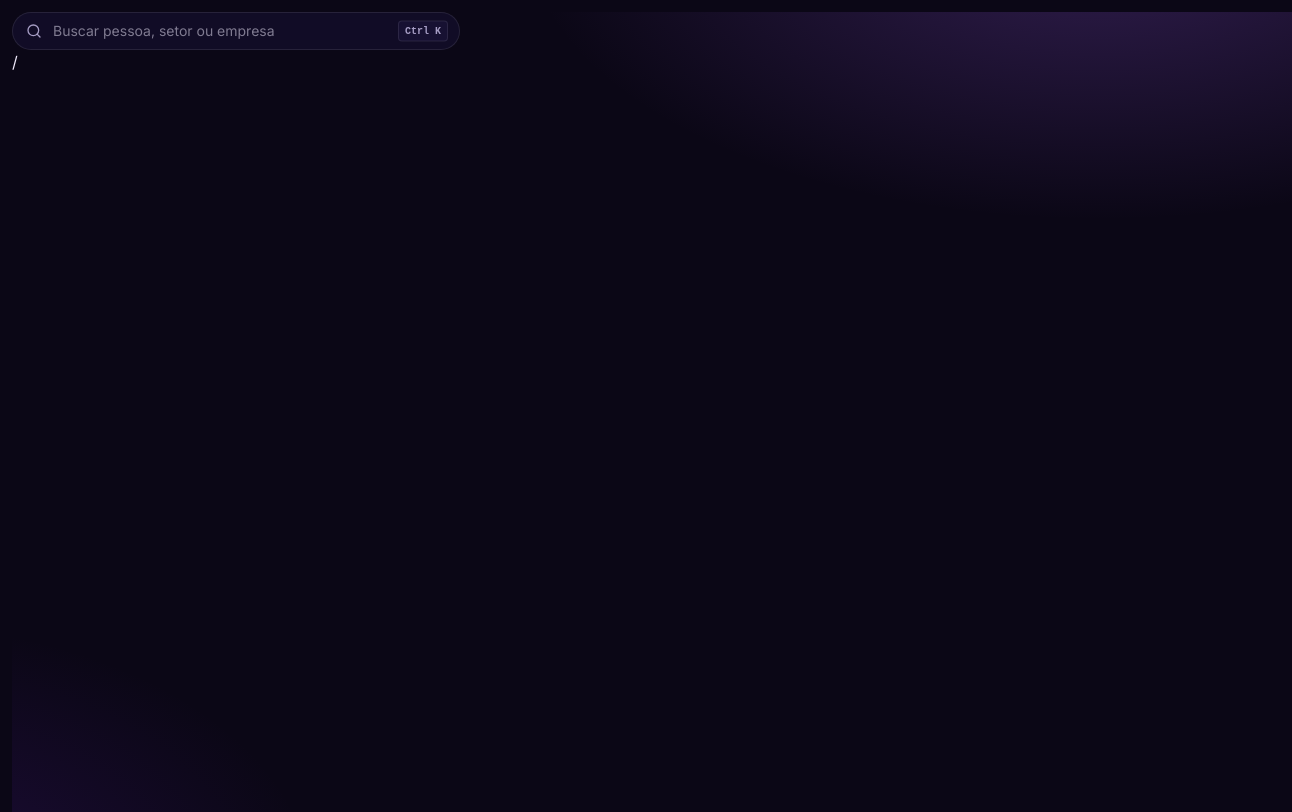
Test case: localizador do topo › agrupa pessoa, setor, terceirizada e fornecedor, e abre a ficha certa com o teclado
In the dropdown: (236, 31) [12,12,460,50], type "sil"
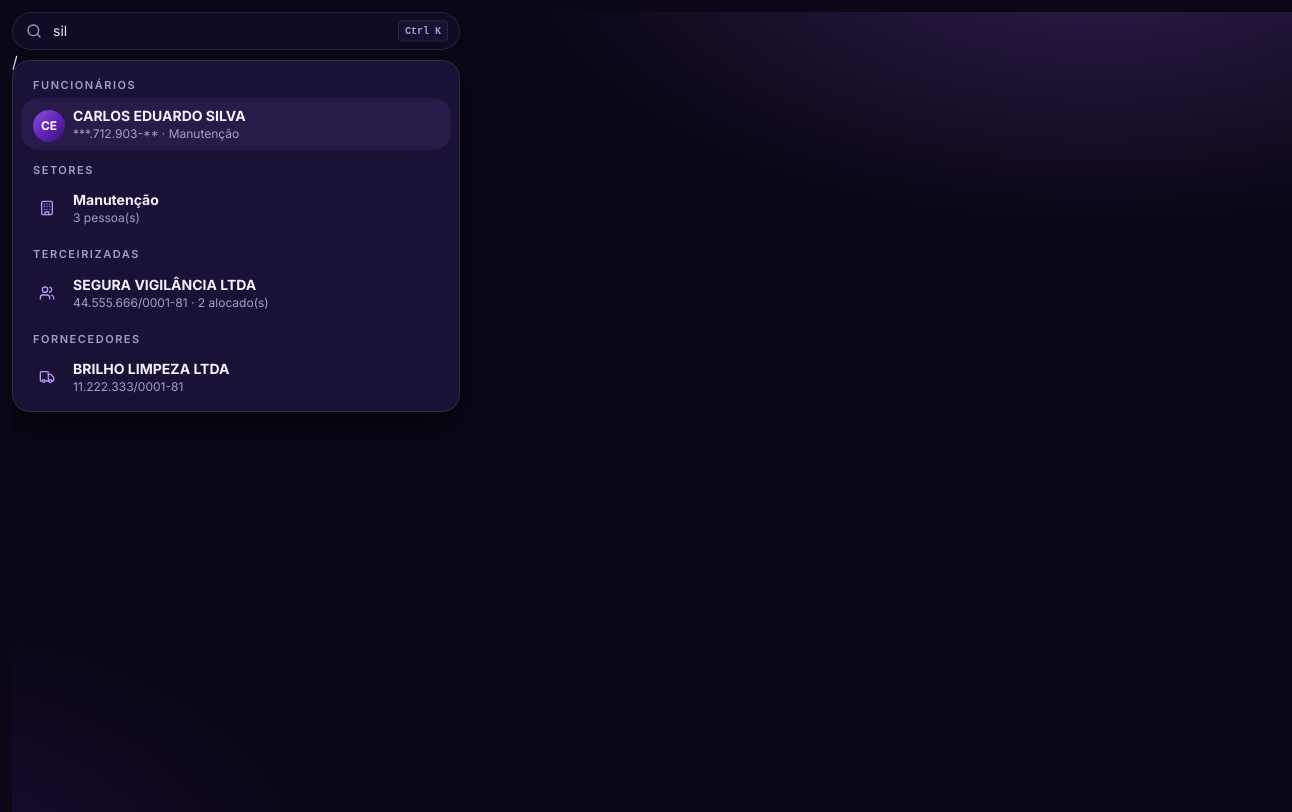
Now the text "CARLOS EDUARDO SILVA" is shown, box [73,106,246,124]
Now the element "Funcionários" is shown, box [21,69,451,150]
Now the element "Setores" is shown, box [21,154,451,234]
Press ArrowDown in the dropdown named "Buscar pessoa, setor, terceirizada ou fornecedor", box [12,12,460,50]
Press ArrowDown in the dropdown named "Buscar pessoa, setor, terceirizada ou fornecedor", box [12,12,460,50]
Press ArrowDown in the dropdown named "Buscar pessoa, setor, terceirizada ou fornecedor", box [12,12,460,50]
Press Enter in the dropdown named "Buscar pessoa, setor, terceirizada ou fornecedor", box [12,12,460,50]
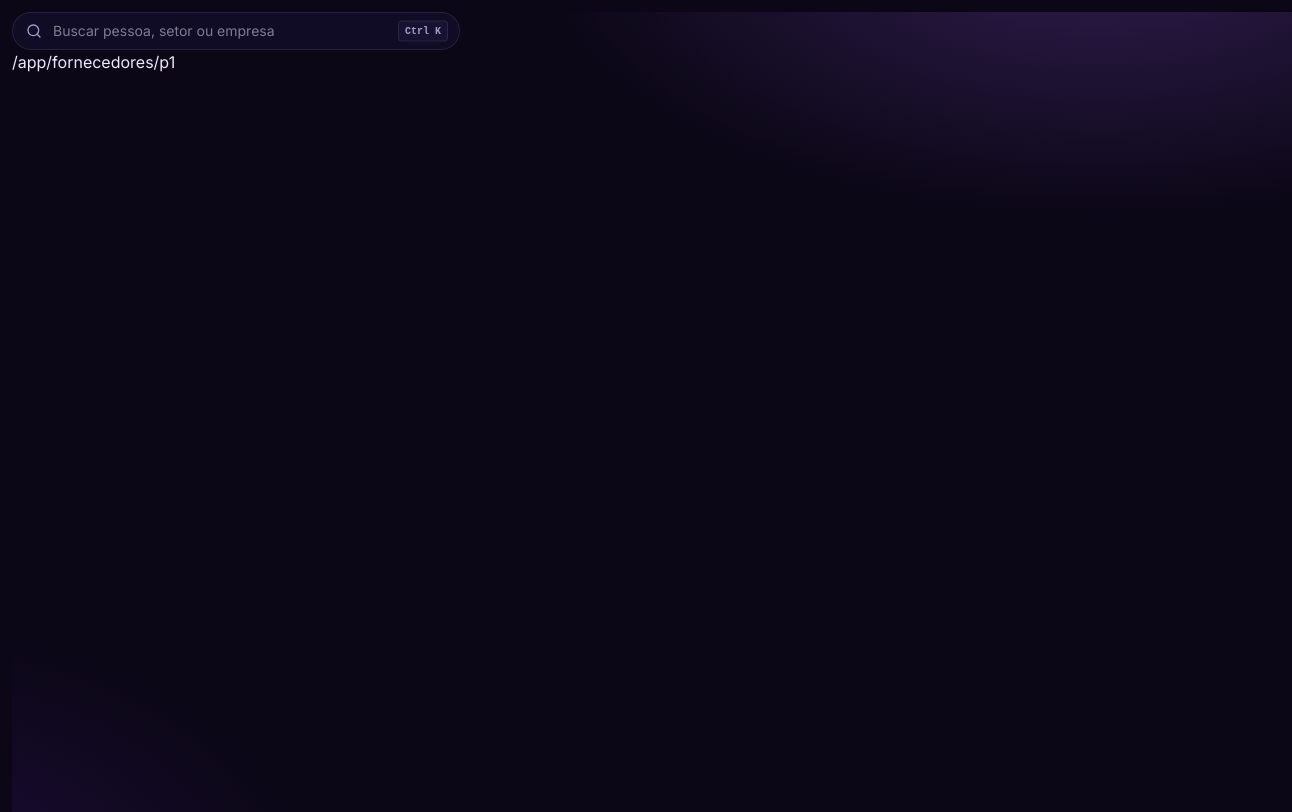
Now the text with test id "rota" reads "/app/fornecedores/p1", box [12,52,175,72]
